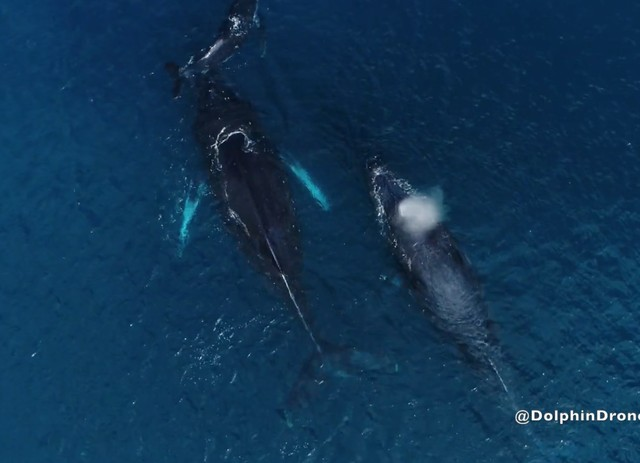whale: (152, 46, 399, 431), (356, 140, 561, 459)
